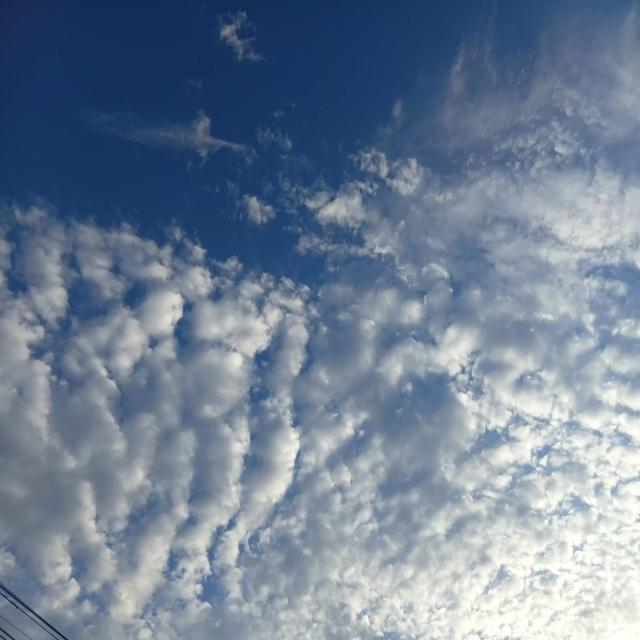altocumulus: (3, 213, 639, 639)
